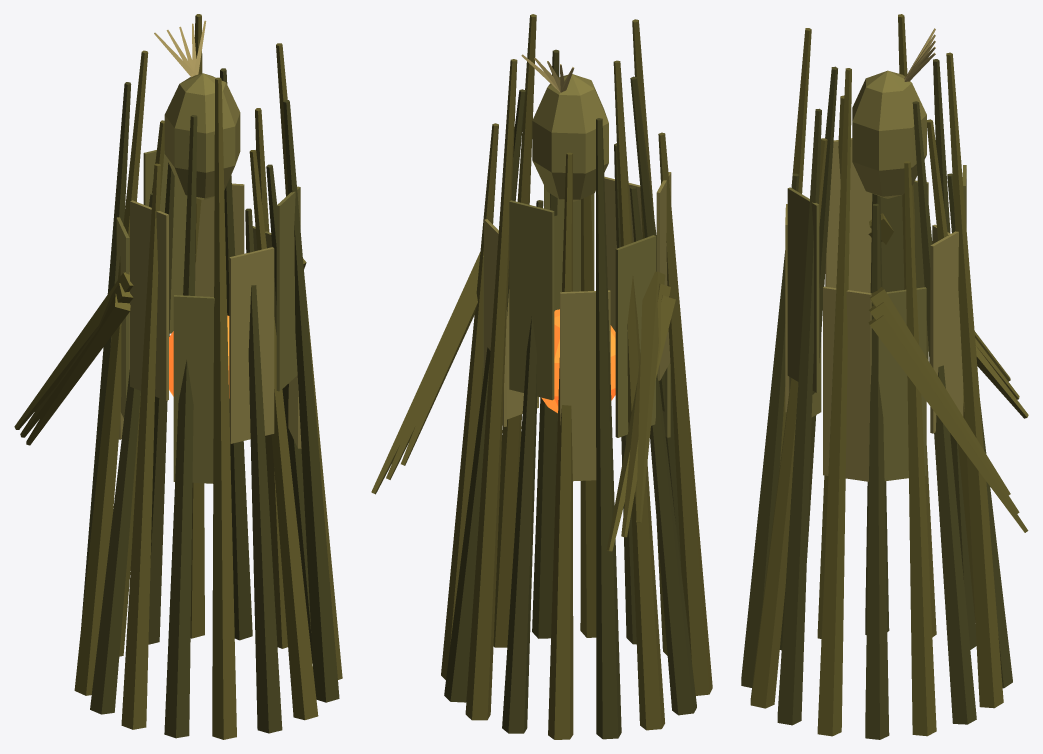
File: creature_corn_husk.glb
3 renders of one model, left to right at view 1: azimuth 30°, elevation 25°; view 2: azimuth 150°, elevation 25°; view 3: azimuth 270°, elevation 25°, orthographic.
Parts seen in each view (by area): view 1: Stalks, Head, ArmL; view 2: Stalks, Head, ArmL, ArmR, Heart; view 3: Stalks, Head, ArmR, ArmL.
Part boxes in pixels (x1,y1,x2,y2): Stalks: [74, 14, 342, 739]; Head: [154, 20, 240, 200]; ArmL: [14, 272, 133, 445]; Stalks: [441, 14, 712, 739]; Head: [521, 54, 608, 201]; ArmL: [606, 271, 675, 551]; ArmR: [371, 252, 480, 494]; Heart: [541, 309, 615, 413]; Stalks: [741, 14, 1012, 739]; Head: [852, 28, 935, 198]; ArmR: [868, 287, 1028, 532]; ArmL: [868, 213, 1028, 418].
Bounding box in the file's own units: 1.02 × 2.41 × 0.974.
